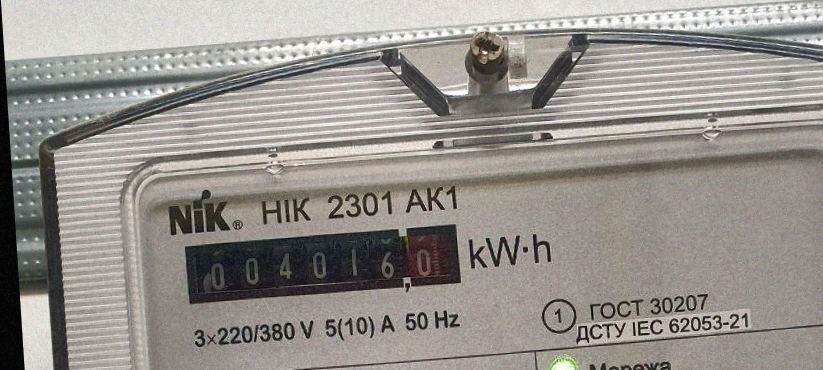0: (307, 246, 330, 282), (206, 258, 229, 292), (411, 244, 433, 278), (241, 253, 262, 288)
1: (345, 243, 362, 278)
4: (274, 247, 294, 282)
6: (375, 246, 396, 279)
screen: (176, 216, 470, 312)
